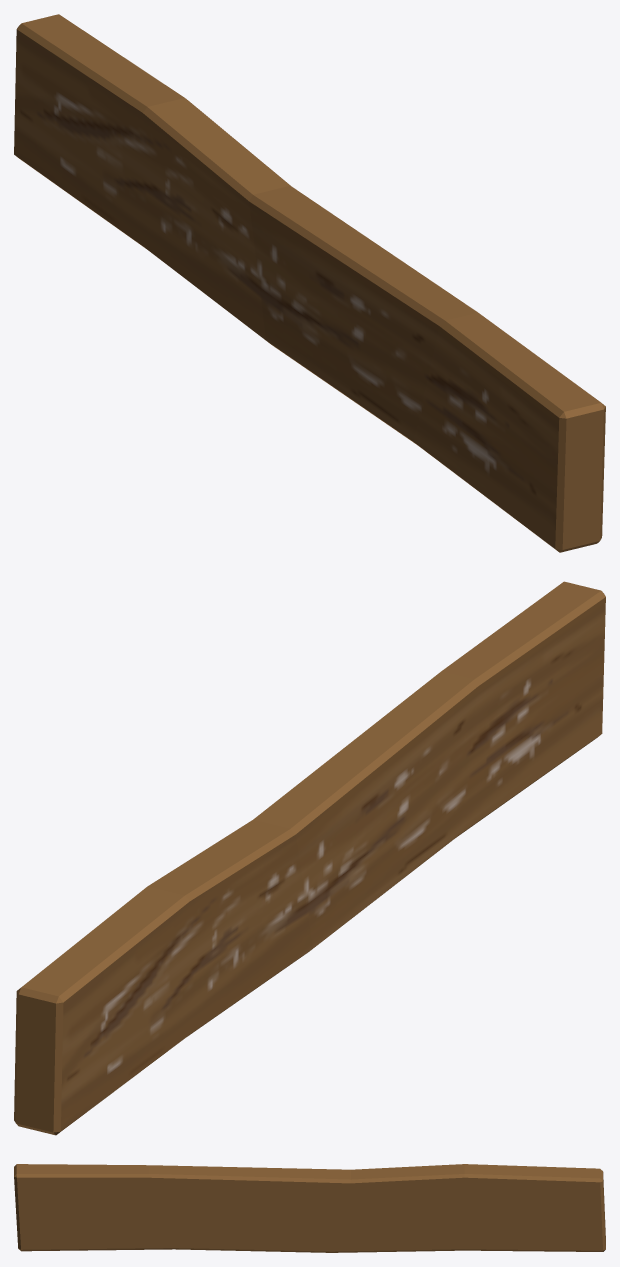
Rendered from 3D_panel_lost_station.fbx.
The picture shows the model from 3 angles, top to bottom: view 1: azimuth 30°, elevation 25°; view 2: azimuth 150°, elevation 25°; view 3: azimuth 270°, elevation 25°; orthographic projection. The views are drawn at different scales.
Visible parts, largest first — view 1: Panel Name; view 2: Panel Name; view 3: Panel Name.
Boxes of the visible parts, <box> form: Panel Name: <box>14,14,605,552</box>; Panel Name: <box>14,581,605,1135</box>; Panel Name: <box>14,1164,605,1252</box>.
Bounding box in the file's own units: 0.2 × 0.6 × 4.07.
